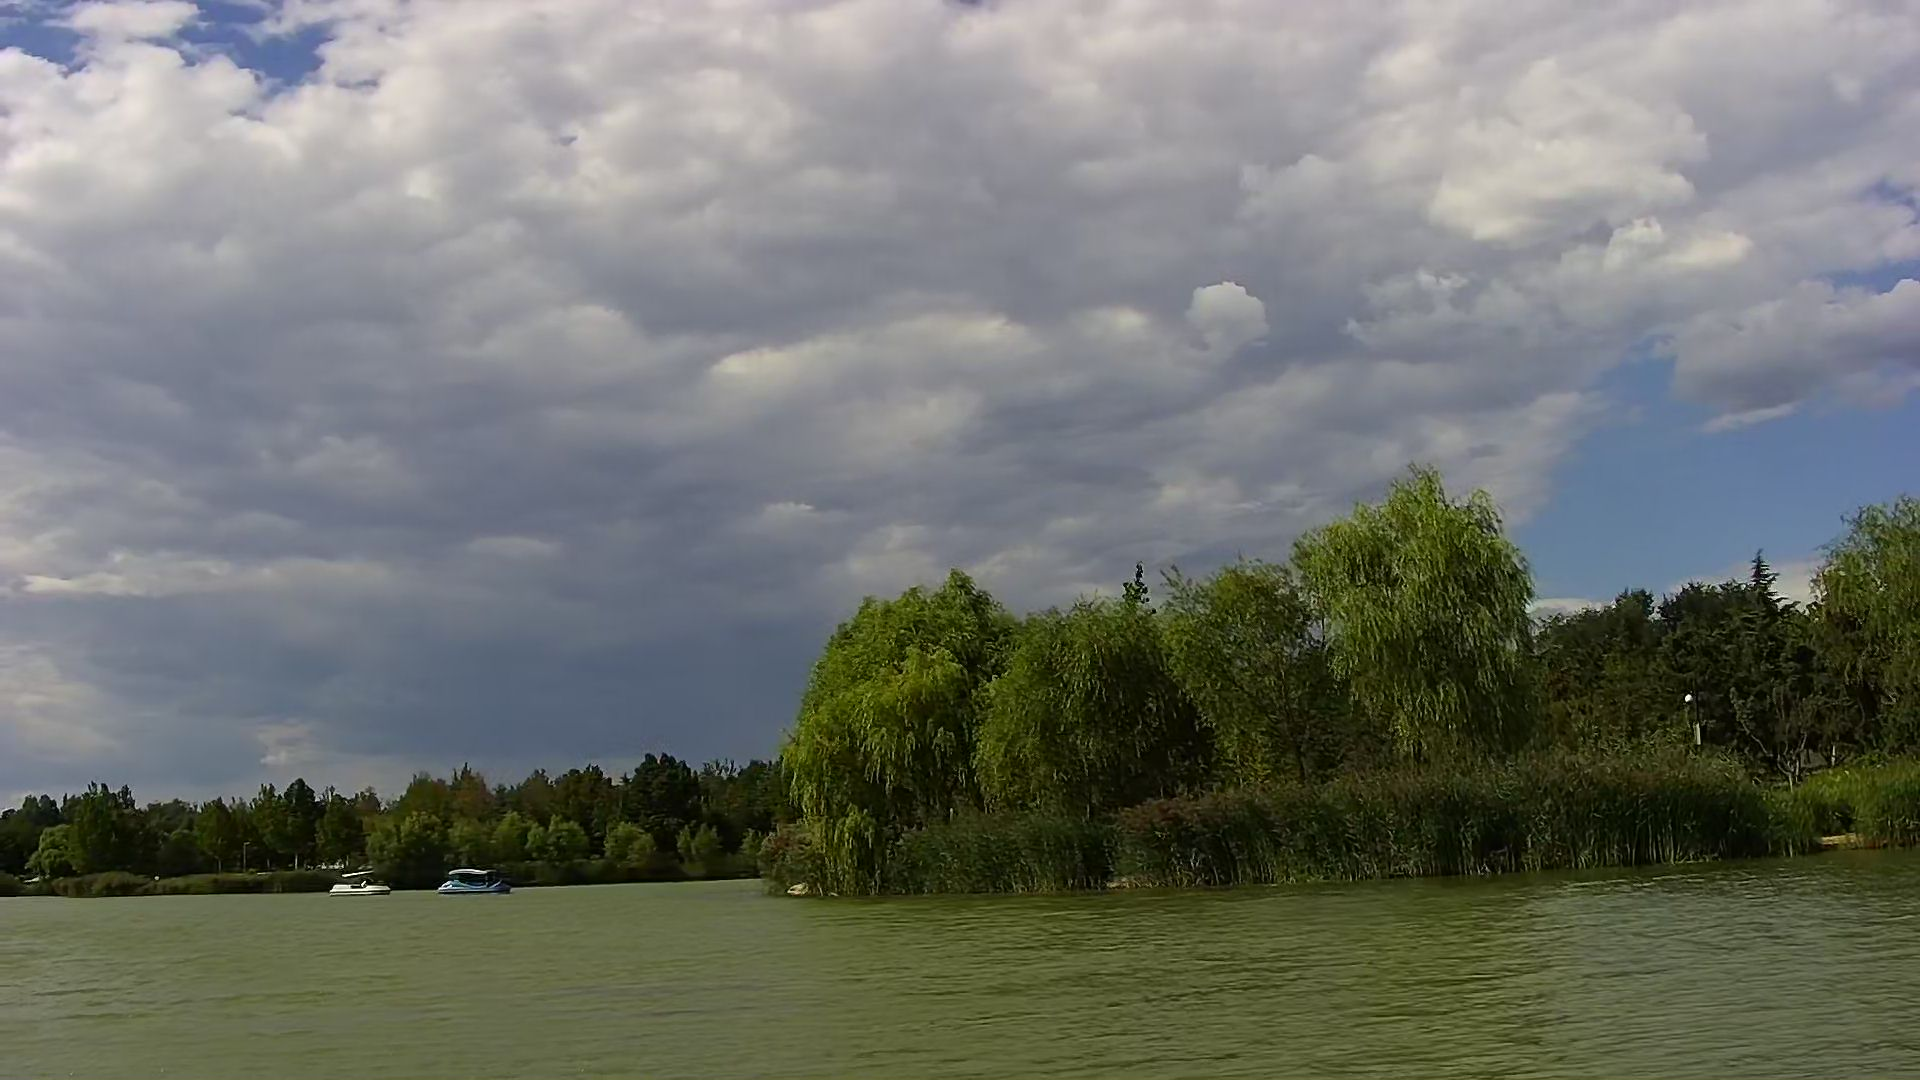boat: (431, 866, 510, 899), (328, 868, 393, 899)
rock: (783, 880, 811, 899)
